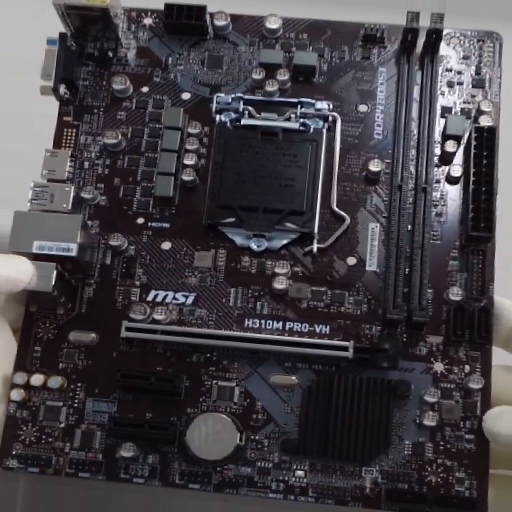CPU: (203, 94, 331, 250)
GPU: (121, 321, 399, 368)
MOTHERBOARD: (1, 9, 503, 511)
RAM: (383, 12, 445, 320)
